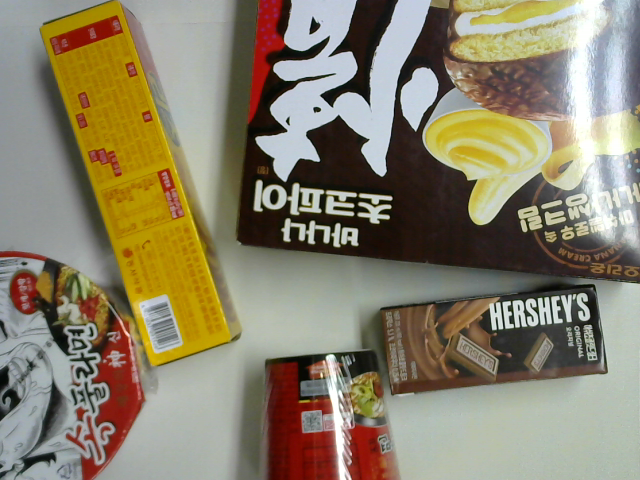Choco_Pie_Banana: (234, 1, 640, 286)
Hejangpul: (1, 250, 158, 478)
Hush_Choco_Drink: (379, 283, 610, 397)
Ritz_Sand_Cracker: (37, 1, 245, 370)
Sinramen_small: (259, 348, 404, 480)
